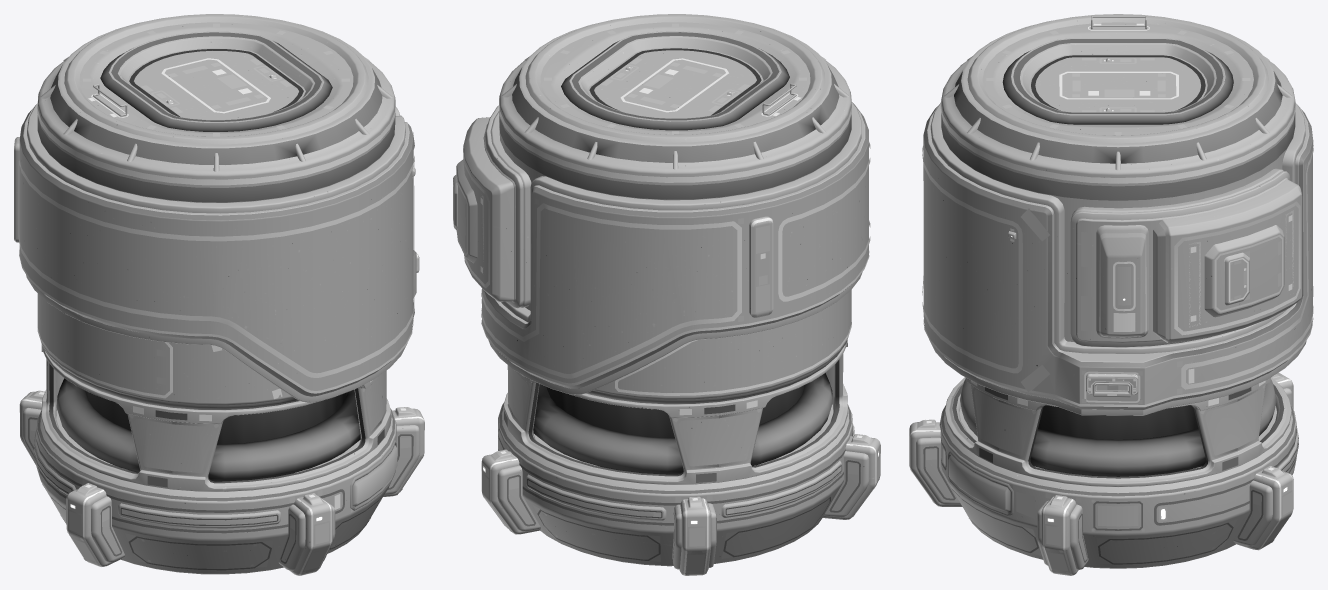
The model's file is SM_Tank_1_Merged.fbx.
3 views of the same model, side by side, from view 1: azimuth 30°, elevation 25°; view 2: azimuth 150°, elevation 25°; view 3: azimuth 270°, elevation 25° (orthographic).
Visible parts, largest first — view 1: SM_Tank_1_Merged_LOD0; view 2: SM_Tank_1_Merged_LOD0; view 3: SM_Tank_1_Merged_LOD0.
Boxes of the visible parts, x1,y1,x2,y2 form: SM_Tank_1_Merged_LOD0: (14, 14, 424, 575); SM_Tank_1_Merged_LOD0: (453, 14, 880, 575); SM_Tank_1_Merged_LOD0: (909, 14, 1313, 575).
Size of the model in its own units: 367 by 356 by 425.
